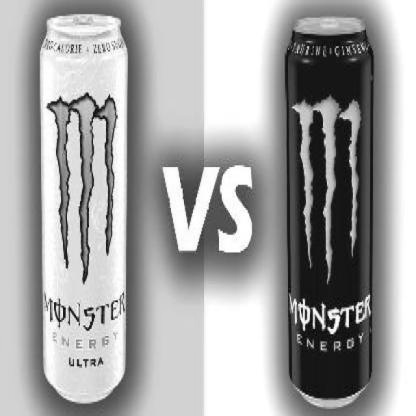alumunium_can: (284, 13, 374, 406), (40, 11, 128, 406)
